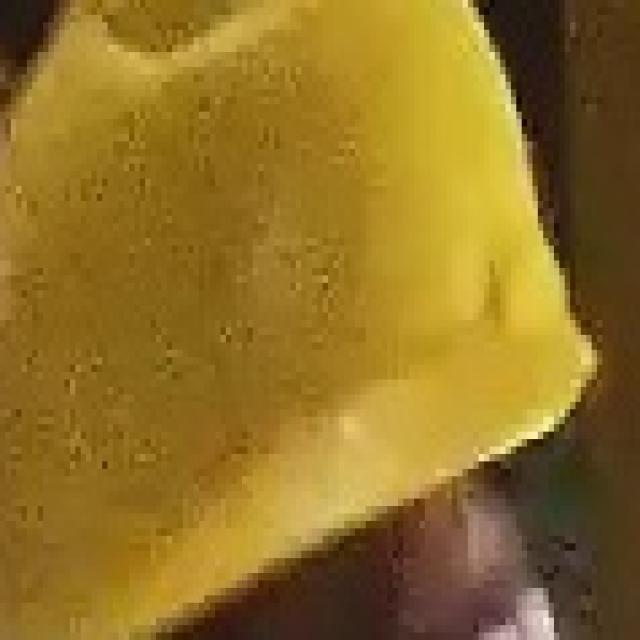yellow helmet: (4, 1, 594, 639)
